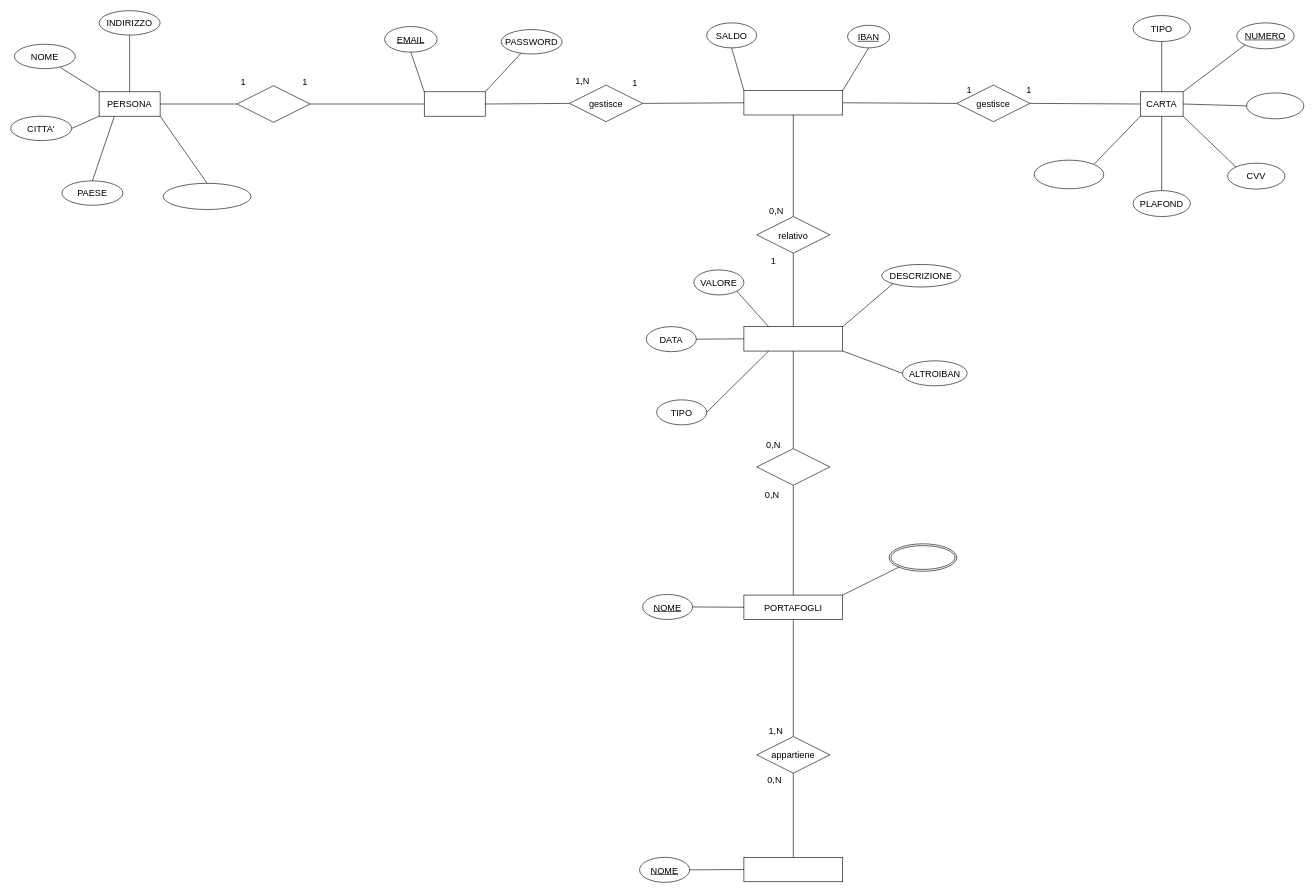
The diagram is 1315 pixels wide and 893 high, and some of its shapes have lost their labels. The centre of each missing label's shape, as x and y in pixels:
CATEGORIA: pixel 793 869
CODICEFISCALE: pixel 207 196
CONTOCORRENTE: pixel 793 102
ha: pixel 273 103
in: pixel 793 466
LIMITESPESA: pixel 1069 174
ParolaChiave: pixel 922 557
SCADENZA: pixel 1275 105
TRANSAZIONE: pixel 793 338
UTENTE: pixel 454 103
